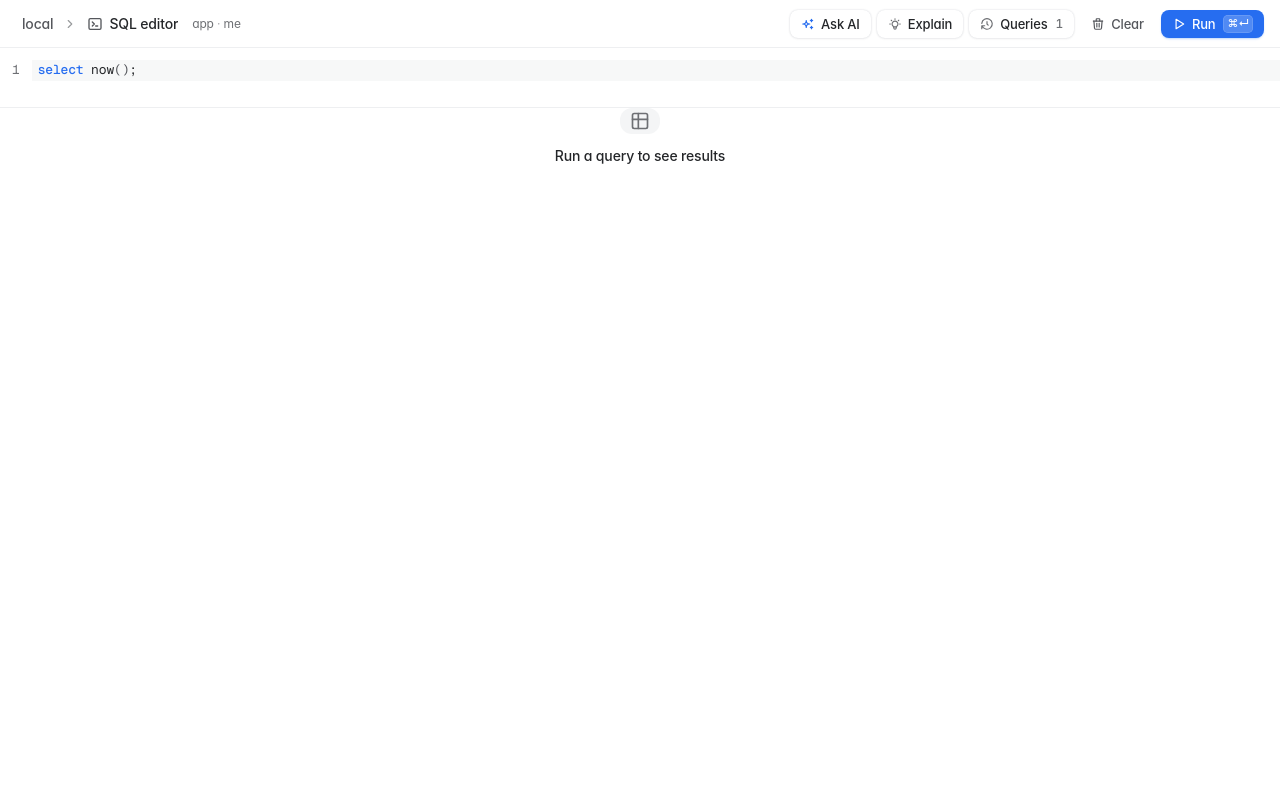
Test: the query library › loads a picked query into the editor
Expected: the element with test id "sql-editor" is shown, [0, 48, 1279, 107]
Click the button "Queries 1" at (1022, 24), box [969, 10, 1074, 38]
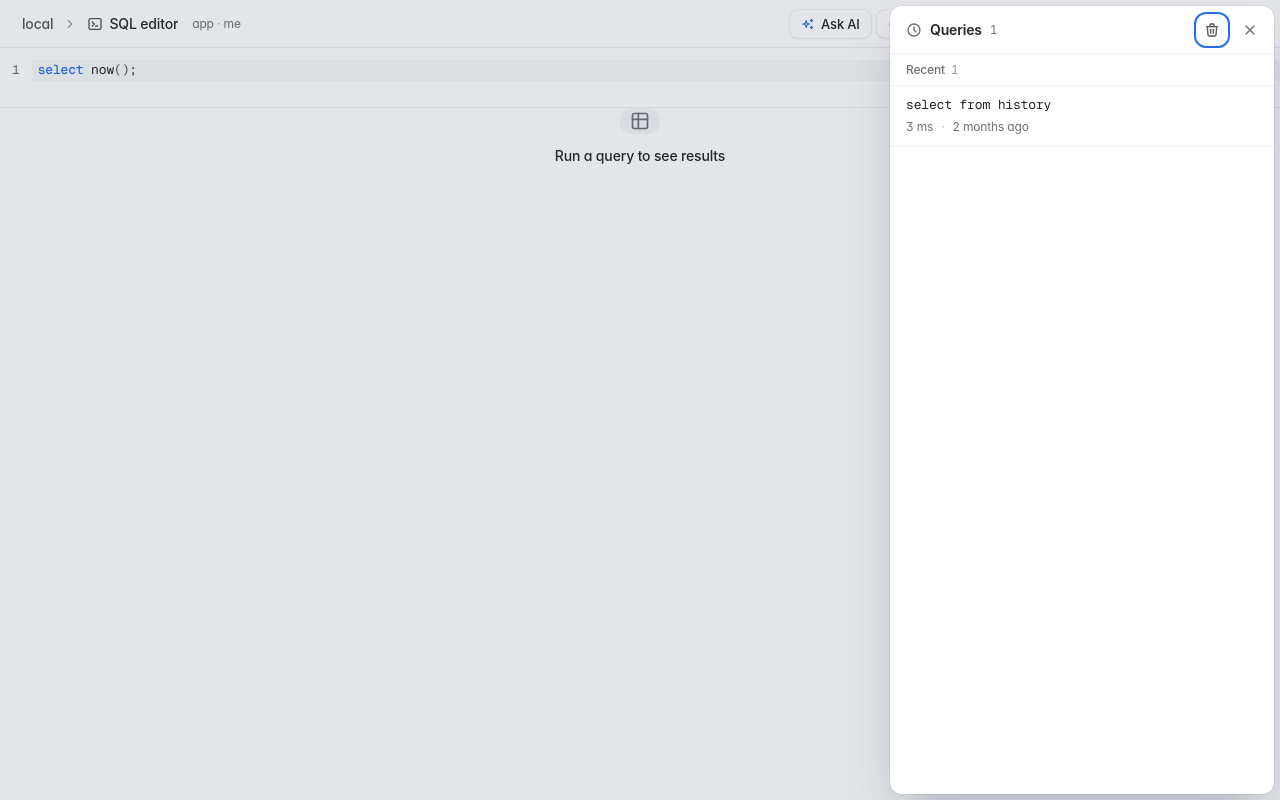
Click the text "select from history" at (979, 104), box [906, 96, 1051, 113]
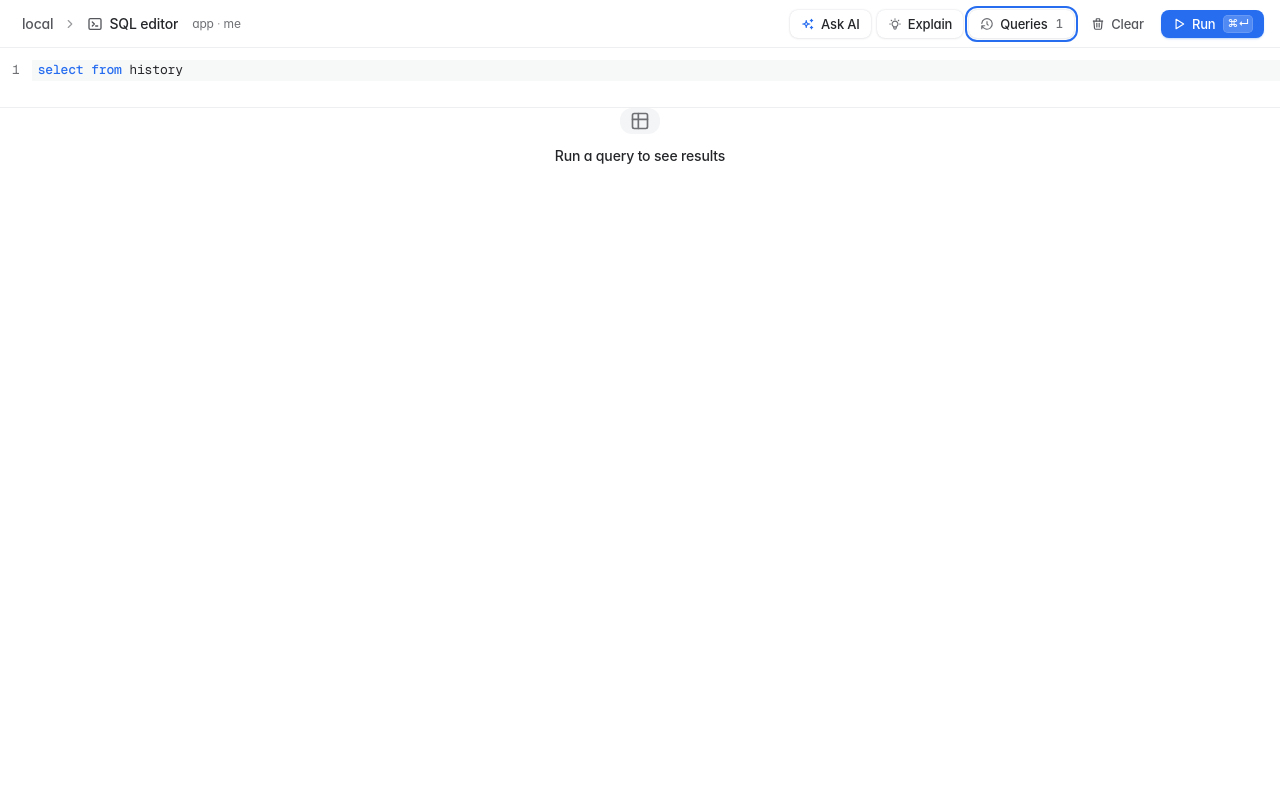
Expected: the text box labelled "select from history" is shown, [32, 60, 1279, 81]
